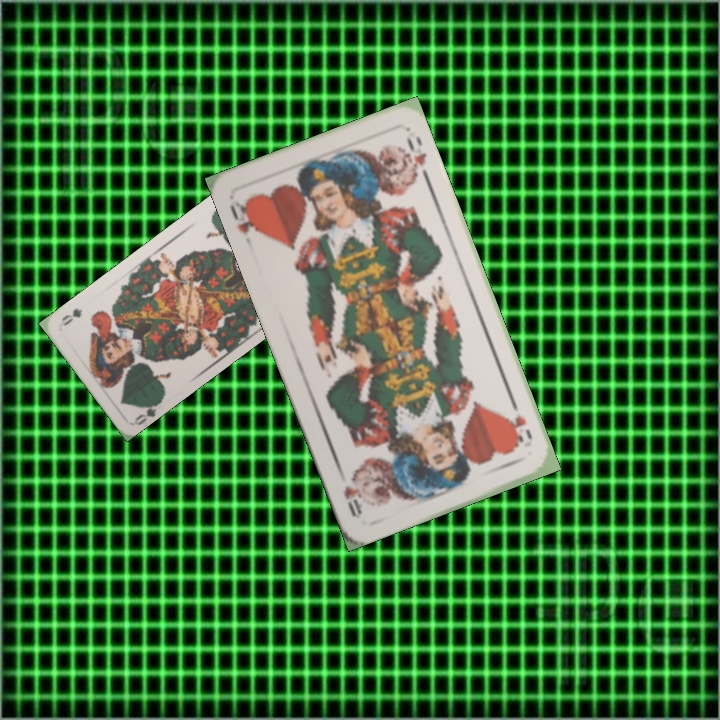GO: (130, 396, 165, 428)
HO: (225, 196, 262, 251), (504, 396, 535, 449)
